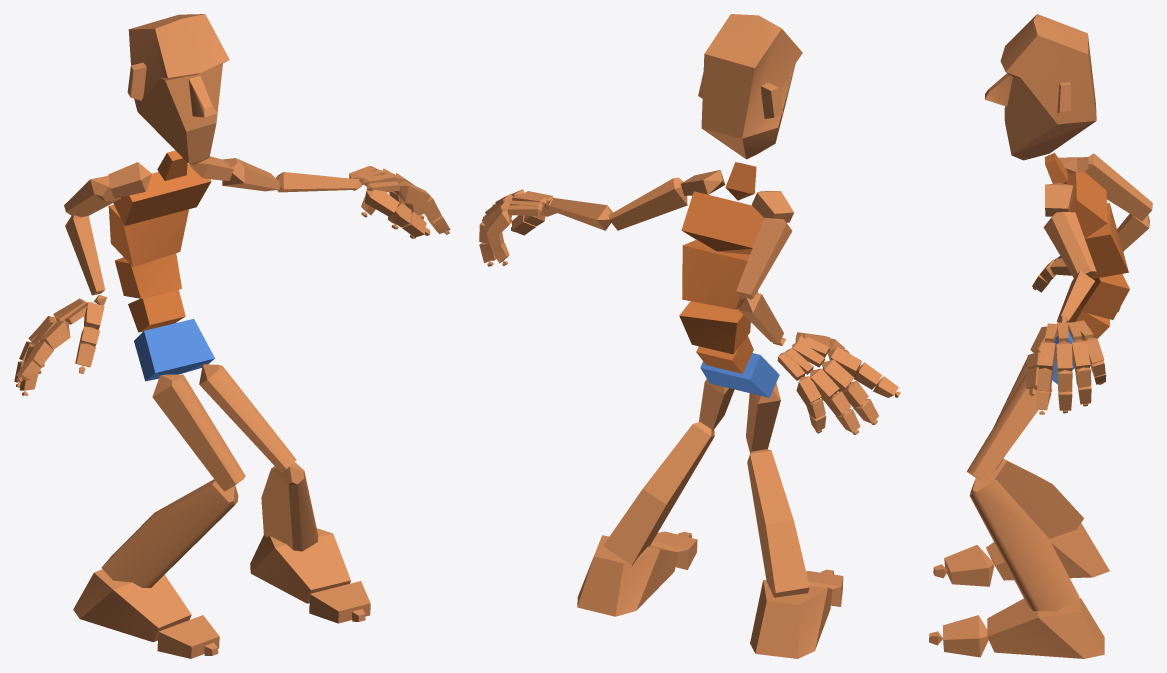
File: prueba75.obj
3 views of the same model, side by side, from view 1: azimuth 30°, elevation 25°; view 2: azimuth 150°, elevation 25°; view 3: azimuth 270°, elevation 25° (orthographic). The views are drawn at different scales.
Visible parts, largest first — view 1: BOPED_Head, BOPED_R_leg, BOPED_R_foot, BOPED_R_foot01, BOPED_R_legup, BOPED_L_leg, Bone01, BOPED_L_legup, Bone04, Bone05, Bone03, BOPED_R_foot_toe04 (+9 smaller); view 2: BOPED_Head, BOPED_R_leg, BOPED_L_leg, BOPED_R_foot01, BOPED_R_foot, Bone05, Bone04, Bone03, BOPED_R_arm_upper, BOPED_L_arm_upper, Bone01, BOPED_R_legup (+9 smaller); view 3: BOPED_Head, BOPED_L_leg, BOPED_R_foot01, BOPED_R_leg, BOPED_L_legup, BOPED_R_foot, BOPED_L_arm_upper, Bone05, BOPED_R_arm_upper, Bone04, BOPED_R_foot_toe01, Bone03 (+12 smaller).
Part boxes in pixels (x1,y1,x2,y2): BOPED_Head: (127, 14, 229, 164); BOPED_R_leg: (101, 479, 238, 587); BOPED_R_foot: (73, 569, 191, 642); BOPED_R_foot01: (250, 528, 350, 603); BOPED_R_legup: (152, 374, 245, 491); BOPED_L_leg: (261, 462, 318, 551); Bone01: (134, 318, 214, 381); BOPED_L_legup: (199, 364, 296, 472); Bone04: (108, 204, 188, 266); Bone05: (113, 164, 211, 225); Bone03: (115, 253, 181, 298); BOPED_R_foot_toe04: (309, 581, 370, 623); BOPED_Head: (698, 14, 802, 159); BOPED_R_leg: (747, 449, 809, 597); BOPED_L_leg: (603, 422, 714, 565); BOPED_R_foot01: (577, 535, 678, 616); BOPED_R_foot: (750, 580, 832, 658); Bone05: (681, 191, 763, 254); Bone04: (682, 240, 757, 309); Bone03: (679, 301, 750, 354); BOPED_R_arm_upper: (736, 217, 792, 299); BOPED_L_arm_upper: (608, 177, 687, 230); Bone01: (700, 353, 779, 397); BOPED_R_legup: (746, 383, 780, 453); BOPED_Head: (985, 14, 1096, 160); BOPED_L_leg: (969, 477, 1079, 611); BOPED_R_foot01: (987, 597, 1104, 658); BOPED_R_leg: (988, 459, 1083, 538); BOPED_L_legup: (966, 374, 1052, 482); BOPED_R_foot: (986, 523, 1109, 580); BOPED_L_arm_upper: (1043, 211, 1096, 277); Bone05: (1066, 171, 1107, 238); BOPED_R_arm_upper: (1084, 153, 1152, 221); Bone04: (1085, 203, 1128, 278); BOPED_R_foot_toe01: (944, 545, 994, 586); Bone03: (1080, 274, 1129, 319).
Size of the model in its own units: 131 by 176 by 62.9.
